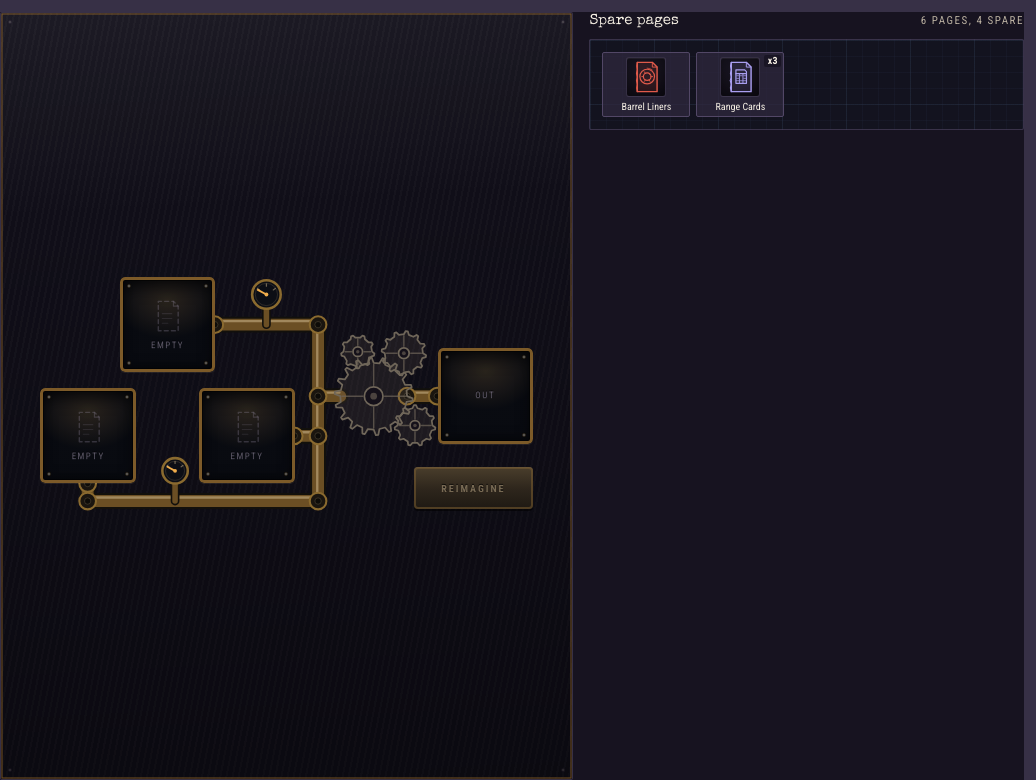
it: filling the sockets (§G2) › lights the button on the third page and not on the second
Expected: the element with test id "reimagine-machine" is shown, x1=0 y1=12 x2=573 y2=779
Click the button "Range Cards x3".
click(740, 85)  # box x1=696 y1=52 x2=784 y2=117
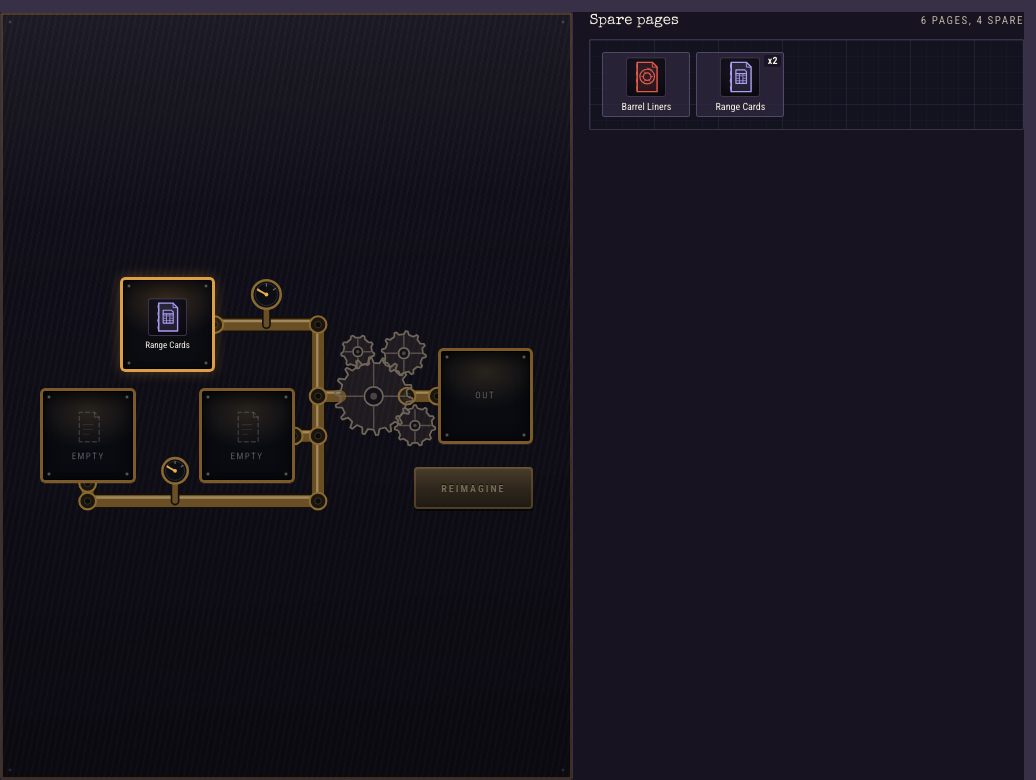
Expected: the button with test id "reimagine" is disabled, x1=414 y1=468 x2=533 y2=509
Click the button "Range Cards x2".
click(740, 85)  # box x1=696 y1=52 x2=784 y2=117
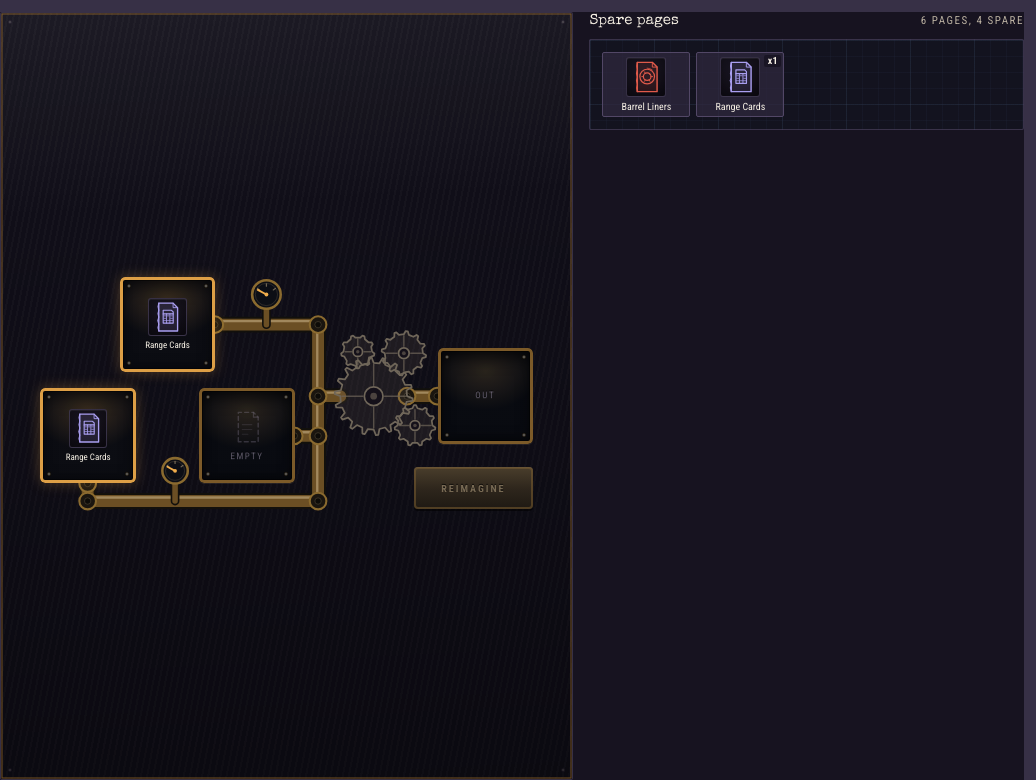
Expected: the button with test id "reimagine" is disabled, x1=414 y1=468 x2=533 y2=509
Click the button "Barrel Liners".
click(646, 85)  # box x1=602 y1=52 x2=690 y2=117
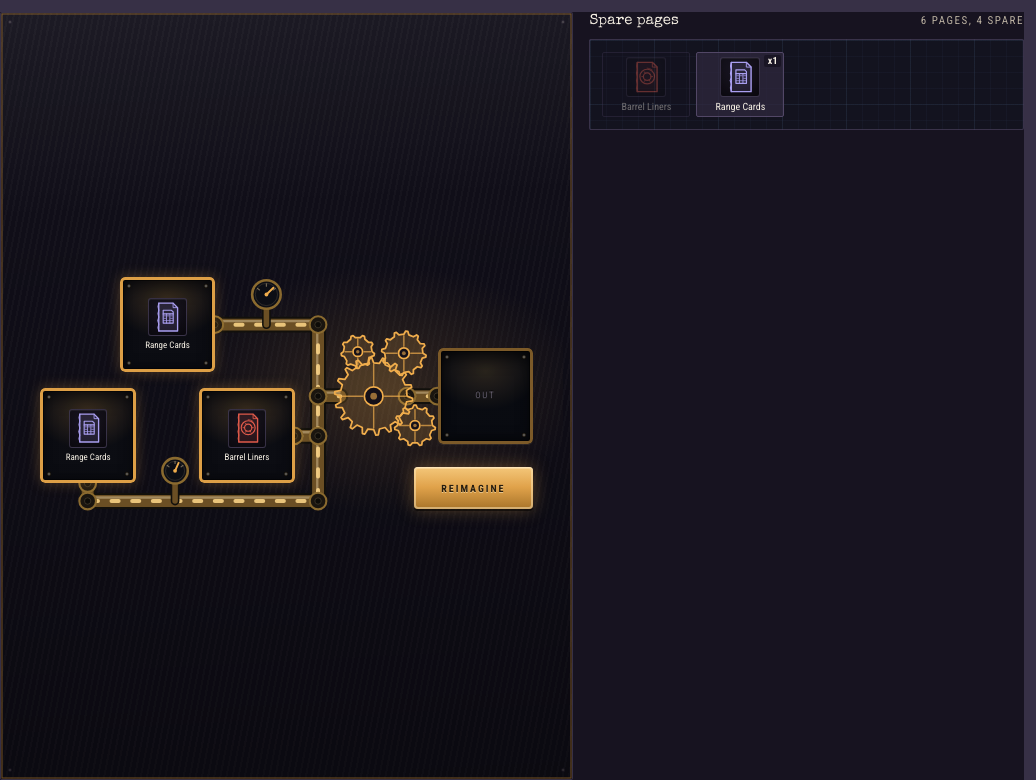
Now the button with test id "reimagine" is enabled, box x1=414 y1=468 x2=533 y2=509
